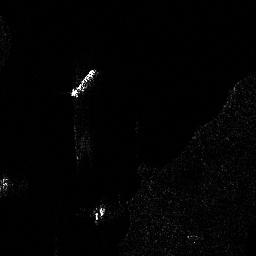ship: (71, 66, 99, 97)
